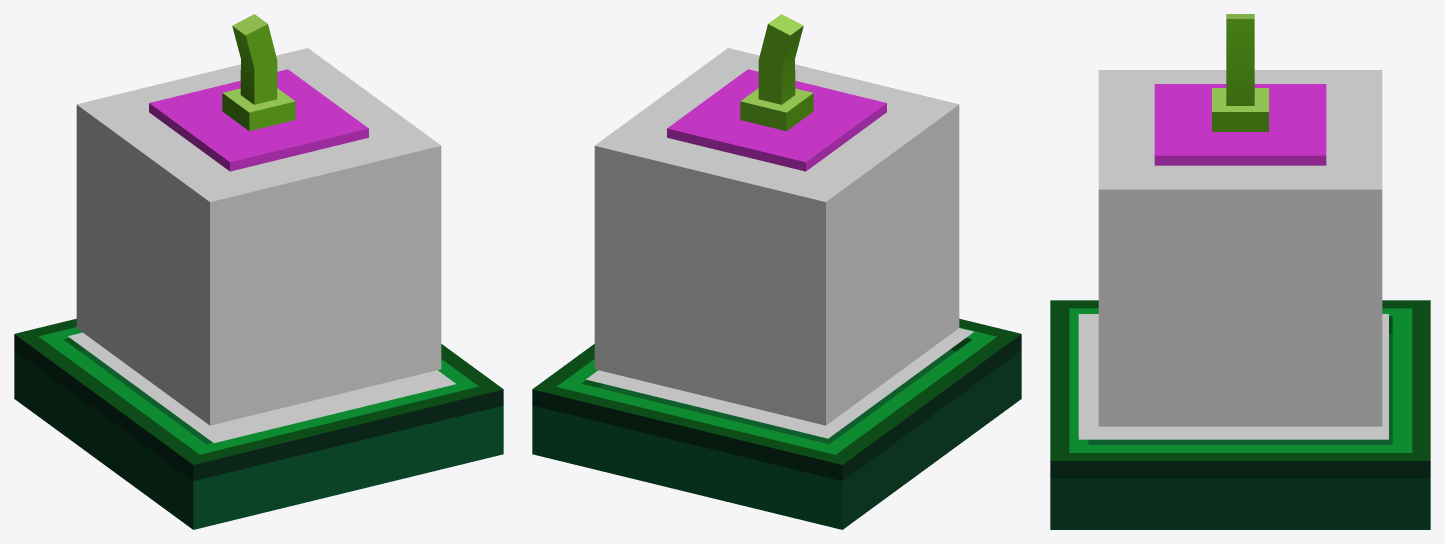
The model's file is Tower_Goo_L4.fbx.
3 renders of one model, left to right at view 1: azimuth 30°, elevation 25°; view 2: azimuth 150°, elevation 25°; view 3: azimuth 270°, elevation 25°, orthographic. The views are drawn at different scales.
Parts seen in each view (by area): view 1: Stroke, Base, HairTop, Shadow; view 2: Stroke, Base, HairTop, Shadow; view 3: Stroke, Base, HairTop, Shadow.
Part boxes in pixels (box(x1,y1,x2,y2)): Stroke: box(76, 48, 441, 425); Base: box(14, 318, 503, 529); HairTop: box(149, 14, 368, 171); Shadow: box(68, 332, 455, 442); Stroke: box(594, 48, 959, 425); Base: box(532, 318, 1021, 529); HairTop: box(667, 14, 886, 171); Shadow: box(586, 328, 973, 438); Stroke: box(1098, 70, 1382, 426); Base: box(1050, 300, 1430, 529); HairTop: box(1154, 14, 1326, 165); Shadow: box(1078, 314, 1388, 439).
Size of the model in its own units: 100 by 125 by 100.
